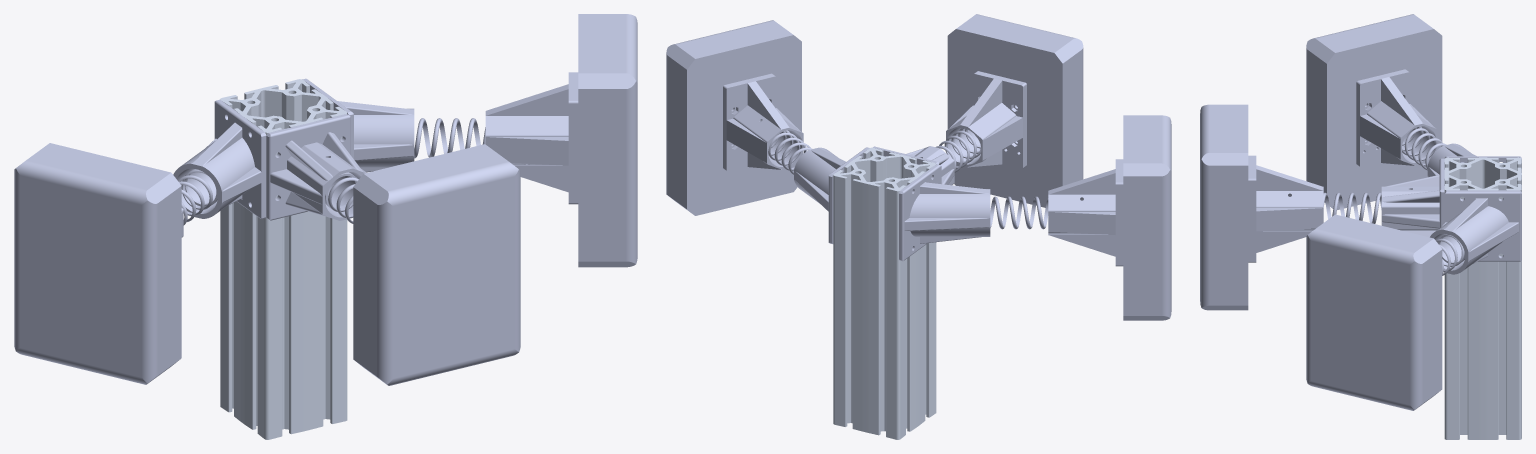
File: iteration_3_front.glb
The picture shows the model from 3 angles, left to right: view 1: azimuth 30°, elevation 25°; view 2: azimuth 150°, elevation 25°; view 3: azimuth 270°, elevation 25°; orthographic projection. The views are drawn at different scales.
Parts seen in each view (by area): view 1: foam-2, Mirrorfoam-3, 3rd Iteration Foam Mounts, foam-1, spring_mount_iteration_1-1, foam_mount_iteration_2-2, Mirrorspring_side_mount_iteration_1-3, spring_side_mount_iteration_1-1, Spring-2, MirrorSpring-5, Spring-1; view 2: 3rd Iteration Foam Mounts, foam-1, foam-2, Mirrorfoam-3, Mirrorspring_side_mount_iteration_1-3, foam_mount_iteration_2-4, foam_mount_iteration_2-2, Mirrorfoam_mount_iteration_2-5, spring_side_mount_iteration_1-1, MirrorSpring-5, spring_mount_iteration_1-1, Spring-1 (+1 smaller); view 3: foam-1, 3rd Iteration Foam Mounts, Mirrorfoam-3, foam-2, spring_side_mount_iteration_1-1, Mirrorfoam_mount_iteration_2-5, foam_mount_iteration_2-4, spring_mount_iteration_1-1, Spring-1, Mirrorspring_side_mount_iteration_1-3, MirrorSpring-5, Spring-2.
Boxes of the visible parts, x1=… form: foam-2: x1=353, y1=144, x2=520, y2=385; Mirrorfoam-3: x1=14, y1=143, x2=181, y2=384; 3rd Iteration Foam Mounts: x1=220, y1=79, x2=347, y2=439; foam-1: x1=578, y1=14, x2=637, y2=267; spring_mount_iteration_1-1: x1=266, y1=114, x2=366, y2=220; foam_mount_iteration_2-2: x1=485, y1=72, x2=578, y2=204; Mirrorspring_side_mount_iteration_1-3: x1=173, y1=99, x2=266, y2=219; spring_side_mount_iteration_1-1: x1=302, y1=78, x2=414, y2=172; Spring-2: x1=414, y1=118, x2=485, y2=158; MirrorSpring-5: x1=178, y1=169, x2=217, y2=225; Spring-1: x1=325, y1=172, x2=358, y2=223; 3rd Iteration Foam Mounts: x1=833, y1=147, x2=936, y2=439; foam-1: x1=666, y1=20, x2=801, y2=215; foam-2: x1=947, y1=14, x2=1083, y2=207; Mirrorfoam-3: x1=1123, y1=115, x2=1171, y2=320; Mirrorspring_side_mount_iteration_1-3: x1=899, y1=164, x2=990, y2=261; foam_mount_iteration_2-4: x1=946, y1=71, x2=1026, y2=168; foam_mount_iteration_2-2: x1=723, y1=73, x2=803, y2=171; Mirrorfoam_mount_iteration_2-5: x1=1048, y1=159, x2=1123, y2=266; spring_side_mount_iteration_1-1: x1=794, y1=147, x2=869, y2=243; MirrorSpring-5: x1=990, y1=196, x2=1080, y2=229; spring_mount_iteration_1-1: x1=873, y1=146, x2=954, y2=185; Spring-1: x1=935, y1=128, x2=981, y2=172; foam-1: x1=1306, y1=214, x2=1442, y2=410; 3rd Iteration Foam Mounts: x1=1444, y1=157, x2=1521, y2=439; Mirrorfoam-3: x1=1306, y1=14, x2=1442, y2=209; foam-2: x1=1200, y1=104, x2=1248, y2=310; spring_side_mount_iteration_1-1: x1=1430, y1=190, x2=1521, y2=274; Mirrorfoam_mount_iteration_2-5: x1=1356, y1=69, x2=1437, y2=167; foam_mount_iteration_2-4: x1=1248, y1=155, x2=1323, y2=262; spring_mount_iteration_1-1: x1=1381, y1=158, x2=1444, y2=237; Spring-1: x1=1323, y1=192, x2=1381, y2=223; Mirrorspring_side_mount_iteration_1-3: x1=1427, y1=143, x2=1521, y2=176; MirrorSpring-5: x1=1402, y1=126, x2=1446, y2=170; Spring-2: x1=1436, y1=234, x2=1464, y2=275.
Size of the model in its own units: 0.6024 by 0.335 by 0.333.
